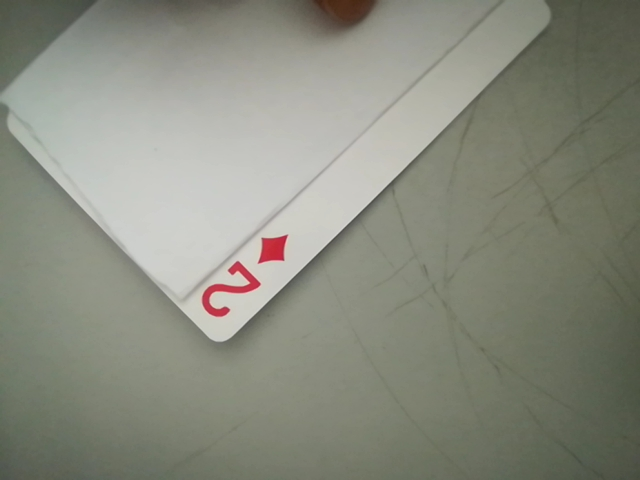fk 2: (186, 233, 298, 332)
